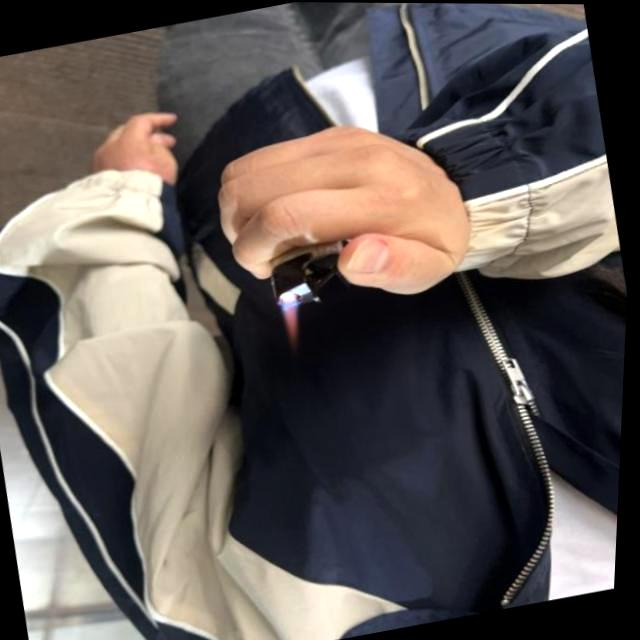fire: (280, 294, 308, 348)
